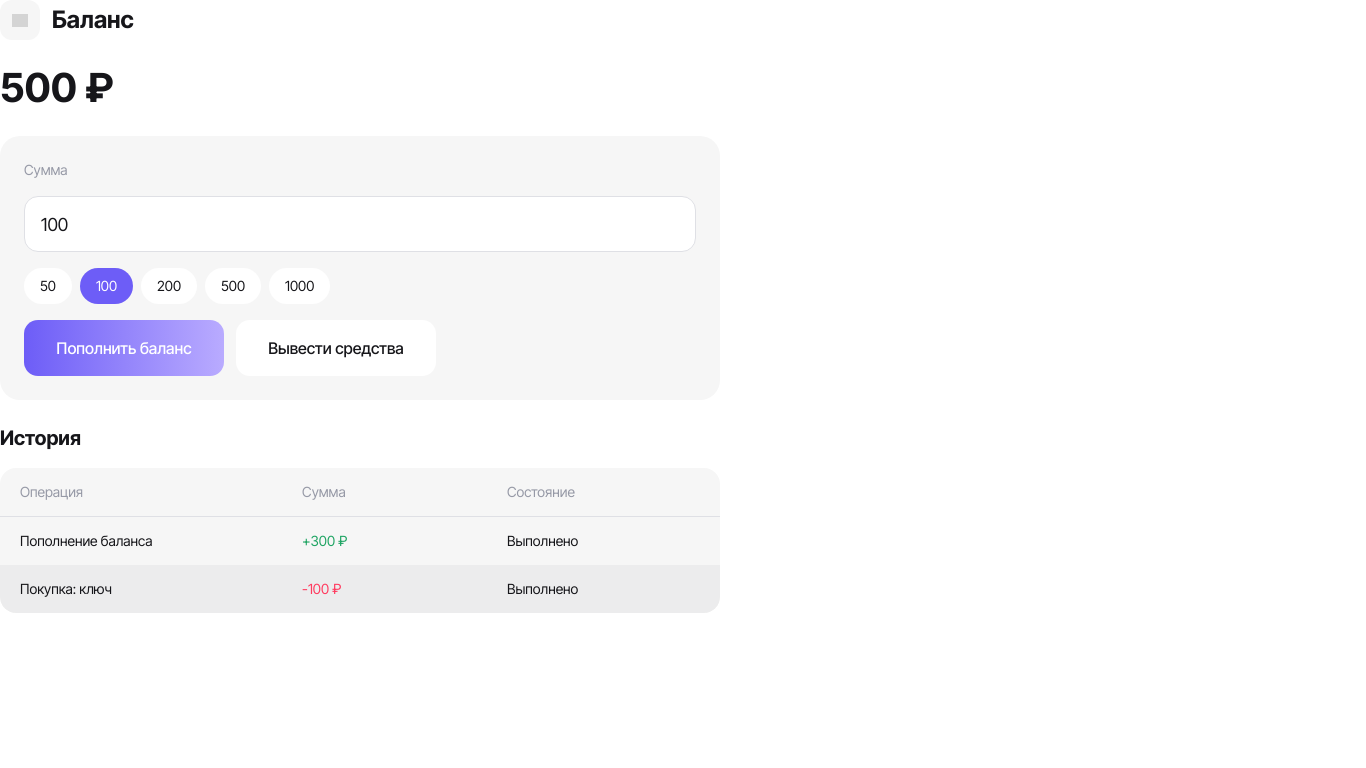
Test case: BalanceScreen › deposits the chosen preset
This screenshot has width=1366, height=768.
Click the button "1000" at (300, 286), box [269,268,330,304]
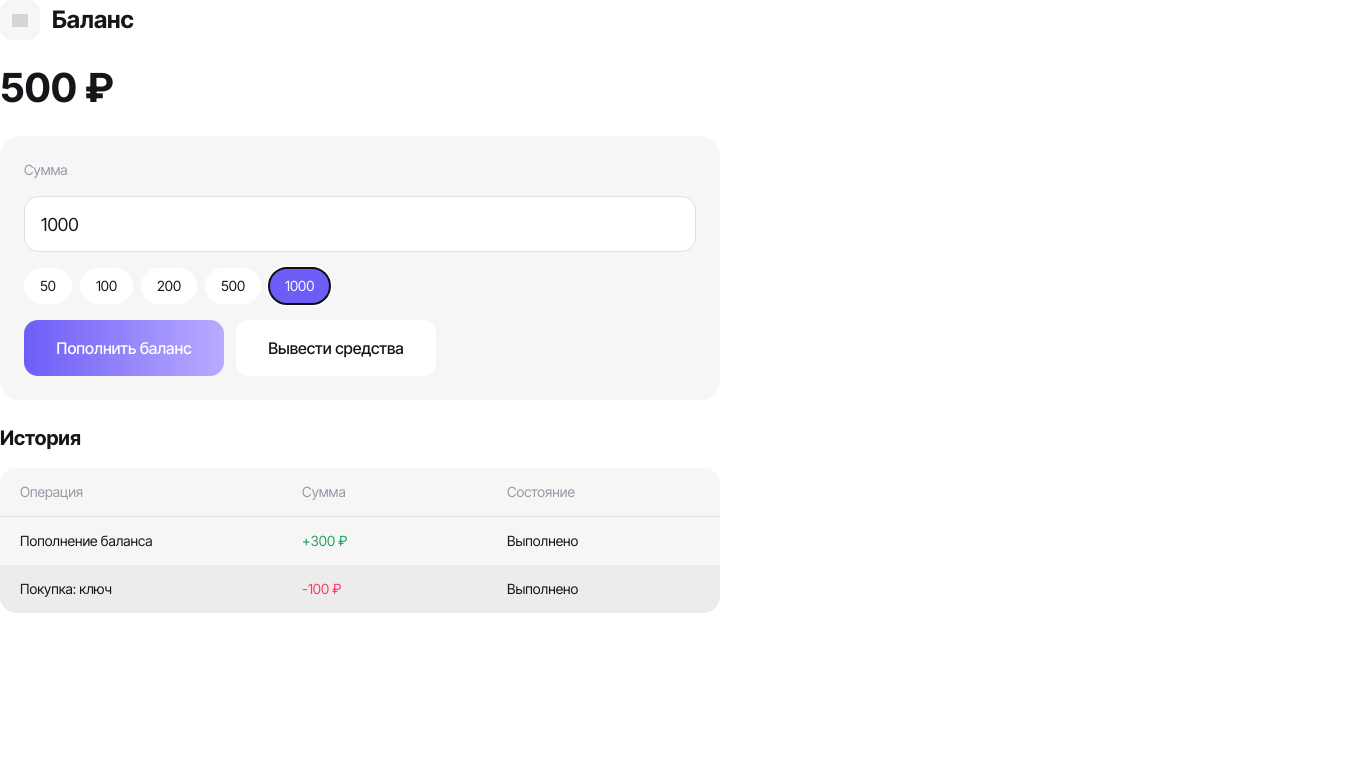
Expected: the field named "Сумма" holds "1000", [24,196,696,252]
Click the button "Пополнить баланс" at (124, 348), box [24,320,224,376]
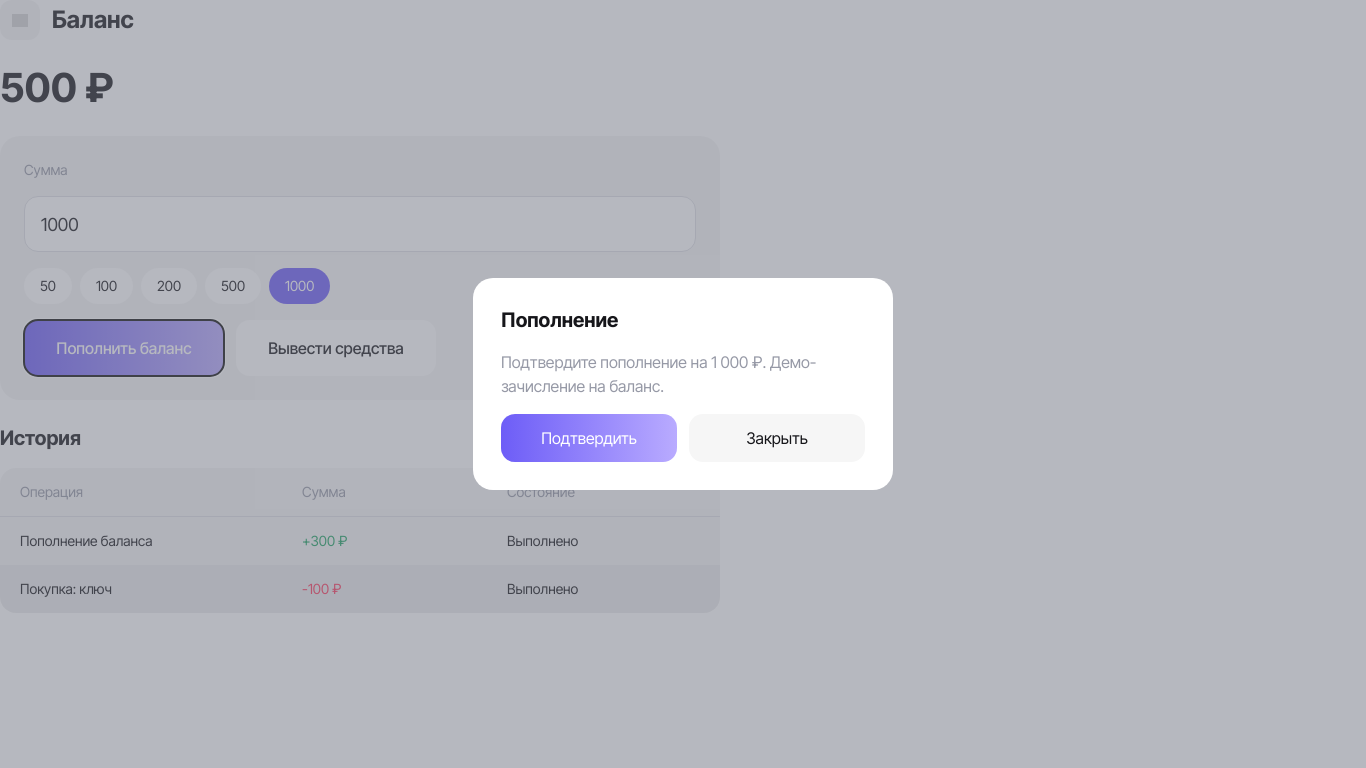
Click the button "Подтвердить" at (589, 438), box [501,414,677,462]
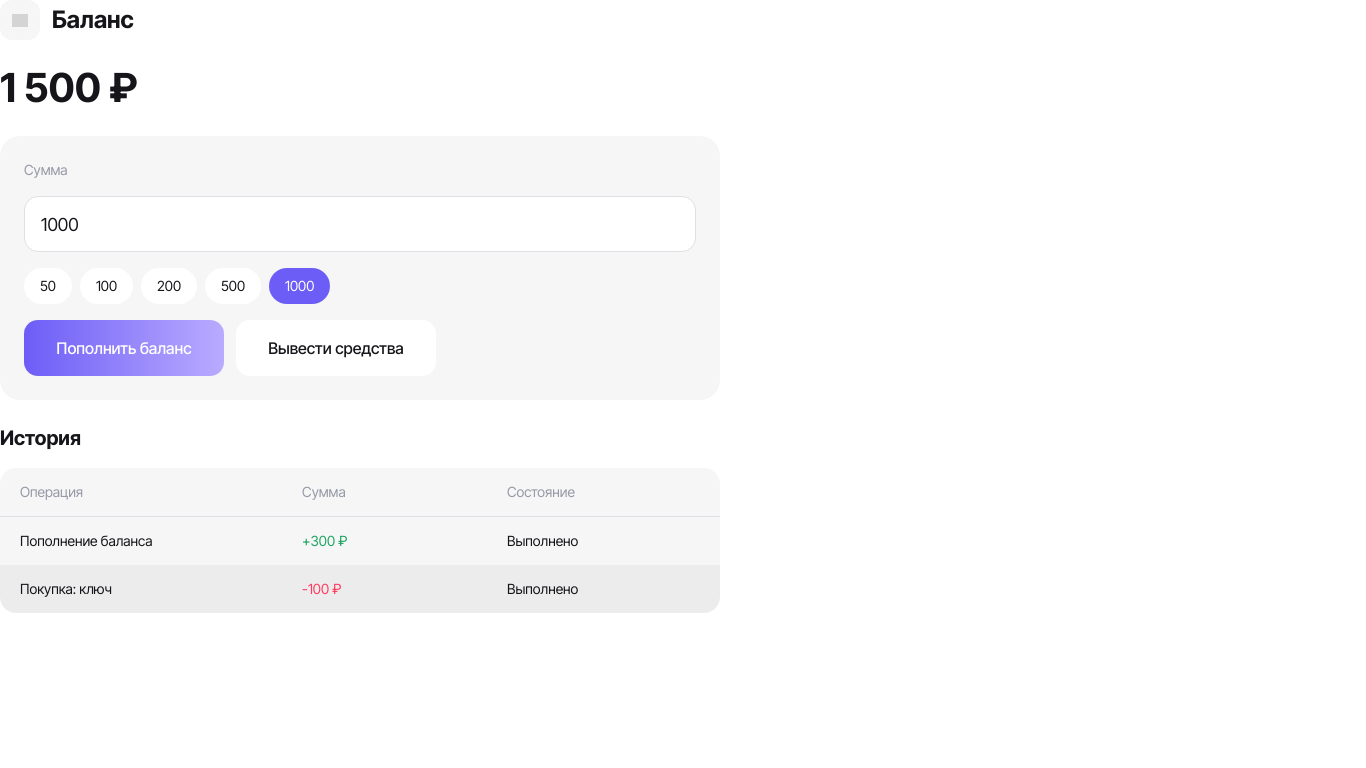
Expected: the dialog is gone
Expected: the text "1 500 ₽" is shown, [0,63,137,112]
